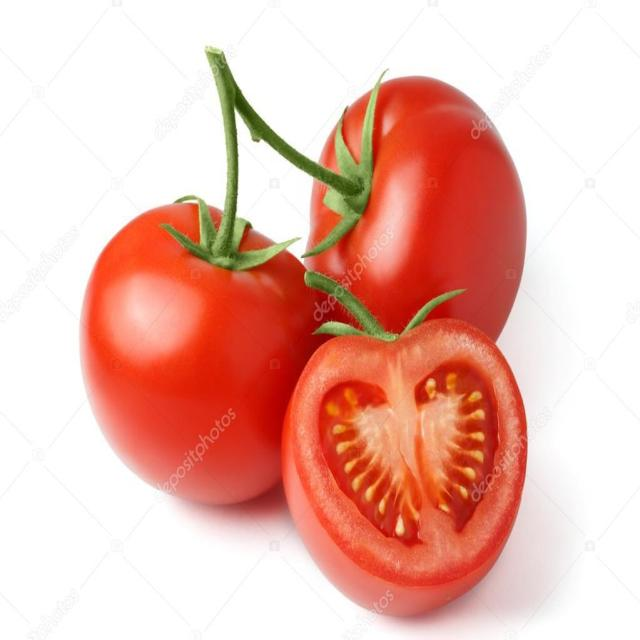Tomato: (79, 190, 318, 513), (283, 325, 532, 617), (313, 81, 526, 360)
